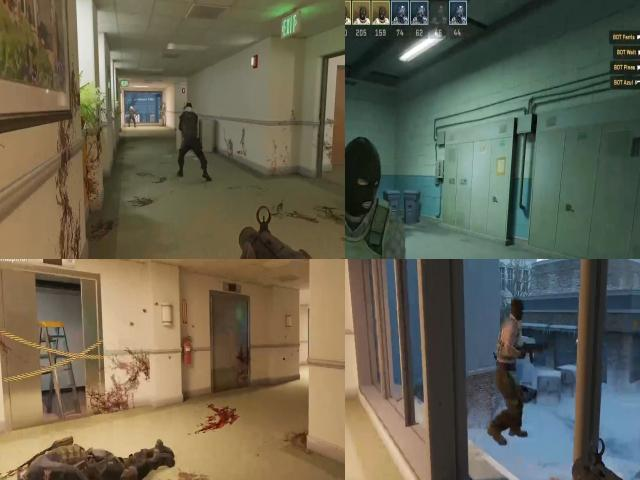CT: (174, 87, 206, 158)
CT-Head: (182, 97, 194, 119)
Dead: (0, 436, 171, 480)
T: (345, 175, 400, 259), (494, 318, 528, 392)
T-Head: (345, 128, 389, 214), (501, 297, 528, 328)
